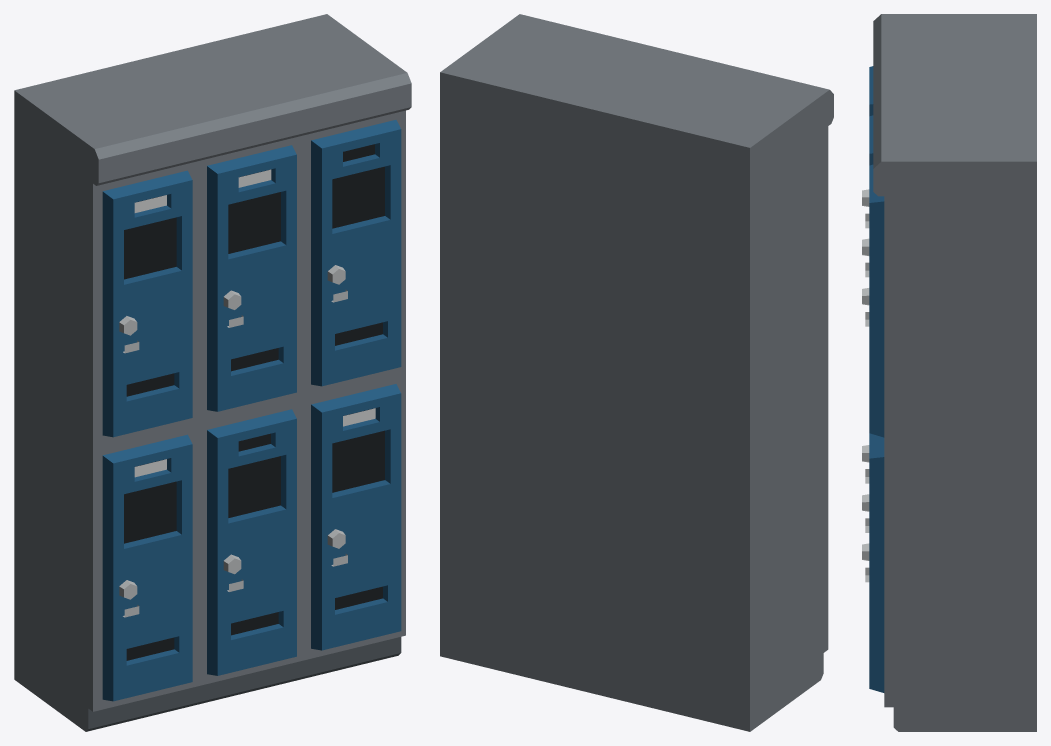
Rendered from asg.glb.
3 renders of one model, left to right at view 1: azimuth 30°, elevation 25°; view 2: azimuth 150°, elevation 25°; view 3: azimuth 270°, elevation 25°, orthographic. The views are drawn at different scales.
Parts seen in each view (by area): view 1: locker-bank, door; view 2: locker-bank; view 3: locker-bank, door.
Boxes of the visible parts, x1=… form: locker-bank: x1=14, y1=14, x2=411, y2=731; door: x1=207, y1=145, x2=296, y2=411; locker-bank: x1=440, y1=14, x2=833, y2=731; locker-bank: x1=862, y1=14, x2=1036, y2=731; door: x1=862, y1=115, x2=873, y2=277.
Size of the model in its own units: 1 by 1.8 by 0.5.
